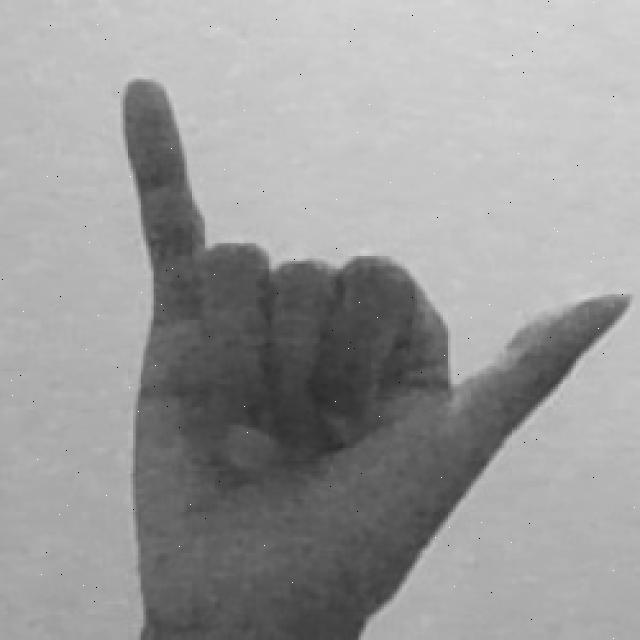Y: (112, 66, 637, 640)
